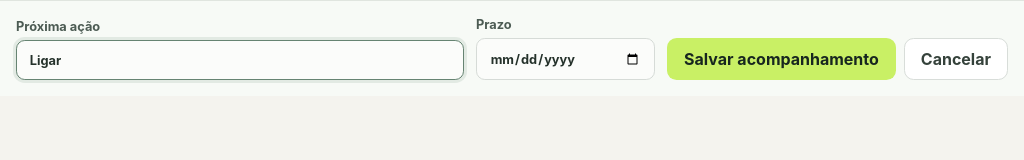
Test: editor rápido de follow-up › explica o conflito sem sobrescrever dados mais recentes
Click the button "Salvar acompanhamento".
click(782, 59)  # box left=667, top=38, right=896, bottom=80
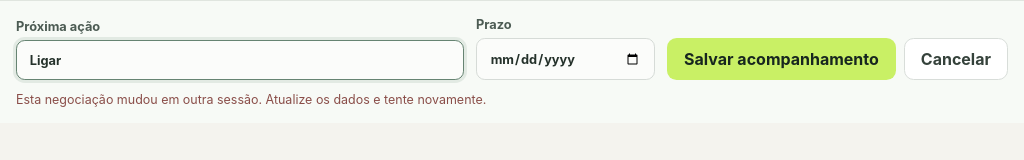
Expected: the message shows "mudou em outra sessão", left=16, top=92, right=486, bottom=107
